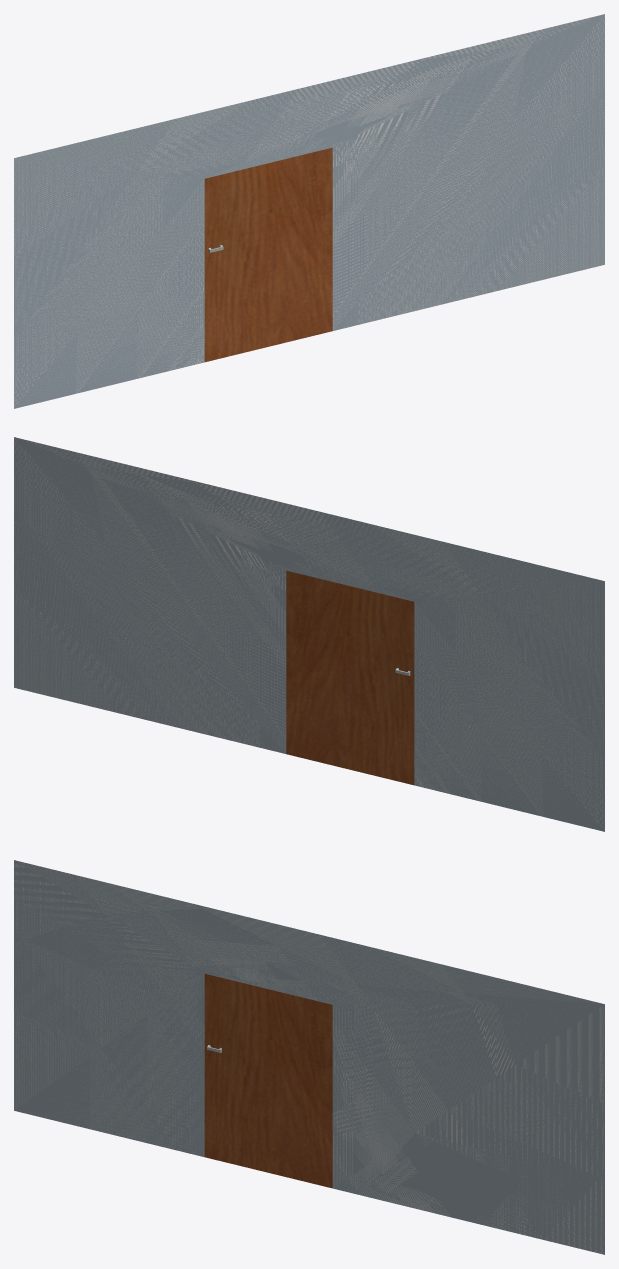
Rendered from classrom_door.FBX.
The picture shows the model from 3 angles, top to bottom: view 1: azimuth 30°, elevation 25°; view 2: azimuth 150°, elevation 25°; view 3: azimuth 330°, elevation 25°; orthographic projection.
Parts seen in each view (by area): view 1: SketchUp, group_0; view 2: SketchUp, group_0; view 3: SketchUp, group_0.
Part boxes in pixels (x1,y1,x2,y2): SketchUp: [14, 14, 604, 408]; group_0: [204, 147, 332, 362]; SketchUp: [14, 437, 604, 831]; group_0: [286, 570, 414, 785]; SketchUp: [14, 860, 604, 1254]; group_0: [204, 974, 332, 1188].
Bounding box in the file's own units: 135 × 54.62 × 1.15.
Materials: 5 (2 with a texture image).
